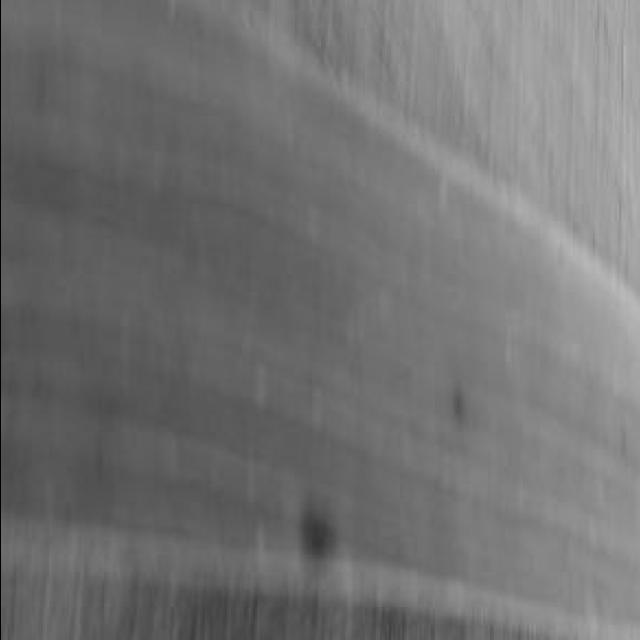Brown_Spot: (283, 484, 357, 594), (448, 382, 478, 436), (616, 419, 640, 469)
